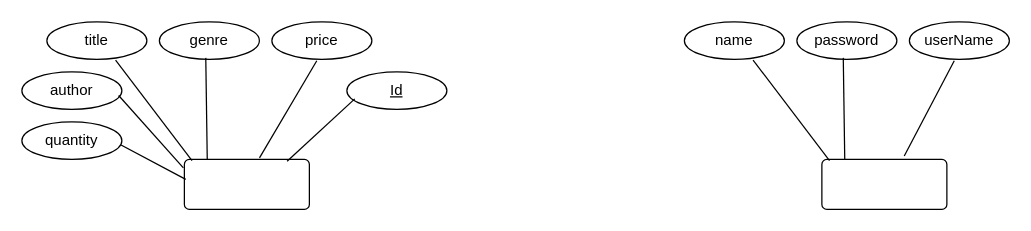
This 1031x231 diagram has some shape labels left out. Each missing label, with the centre of its shape:
"Book" belongs at [246,183].
"User" belongs at [884,183].
